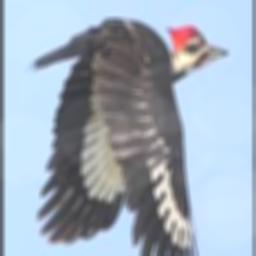Woodpecker: (26, 16, 228, 256)
